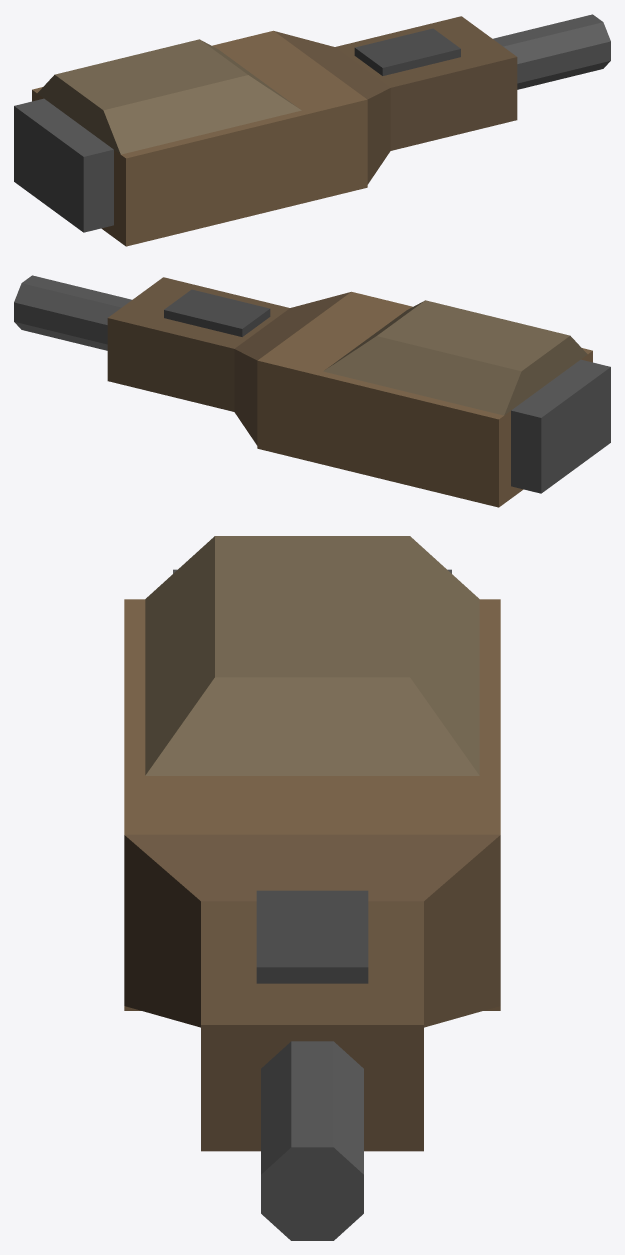
File: ce_medium_gun.obj
The picture shows the model from 3 angles, top to bottom: view 1: azimuth 30°, elevation 25°; view 2: azimuth 150°, elevation 25°; view 3: azimuth 270°, elevation 25°; orthographic projection. The views are drawn at different scales.
Visible parts, largest first — view 1: ce_medium_gun_body, ce_medium_gun_hump, ce_medium_gun_sleeve, ce_medium_gun_rear, ce_medium_gun_barrel, ce_medium_gun_neck, ce_medium_gun_cover; view 2: ce_medium_gun_body, ce_medium_gun_hump, ce_medium_gun_sleeve, ce_medium_gun_rear, ce_medium_gun_barrel, ce_medium_gun_neck, ce_medium_gun_cover; view 3: ce_medium_gun_hump, ce_medium_gun_neck, ce_medium_gun_sleeve, ce_medium_gun_body, ce_medium_gun_barrel, ce_medium_gun_cover.
Part boxes in pixels (x1,y1,x2,y2): ce_medium_gun_body: (32,30,367,246); ce_medium_gun_hump: (37,39,301,154); ce_medium_gun_sleeve: (335,16,517,150); ce_medium_gun_rear: (14,98,113,232); ce_medium_gun_barrel: (493,14,610,89); ce_medium_gun_neck: (274,31,390,184); ce_medium_gun_cover: (354,28,460,75); ce_medium_gun_body: (257,291,592,507); ce_medium_gun_hump: (323,300,587,415); ce_medium_gun_sleeve: (107,277,289,411); ce_medium_gun_rear: (511,359,610,493); ce_medium_gun_barrel: (14,275,131,350); ce_medium_gun_neck: (234,292,350,445); ce_medium_gun_cover: (164,289,270,336); ce_medium_gun_hump: (145,536,479,775); ce_medium_gun_neck: (124,834,500,1027); ce_medium_gun_sleeve: (201,901,423,1151); ce_medium_gun_body: (124,599,500,1010); ce_medium_gun_barrel: (261,1041,363,1240); ce_medium_gun_cover: (256,890,368,983).
Bounding box in the file's own units: 0.91 × 0.1895 × 0.27.
